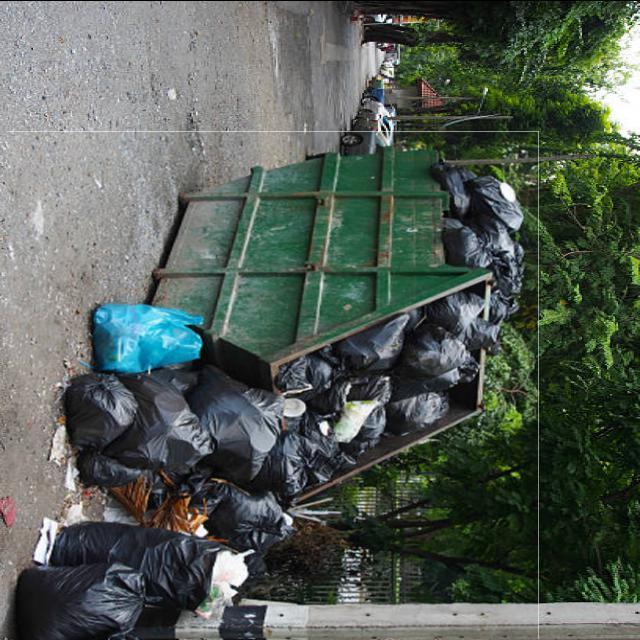Trashbag: (63, 523, 228, 579), (128, 374, 217, 473), (21, 566, 143, 637), (209, 380, 281, 484), (328, 314, 412, 385), (61, 381, 139, 456), (217, 481, 294, 549), (424, 288, 502, 346), (376, 392, 449, 441), (270, 435, 333, 488), (402, 336, 470, 384), (329, 411, 387, 461), (275, 355, 333, 405), (82, 450, 144, 490)
